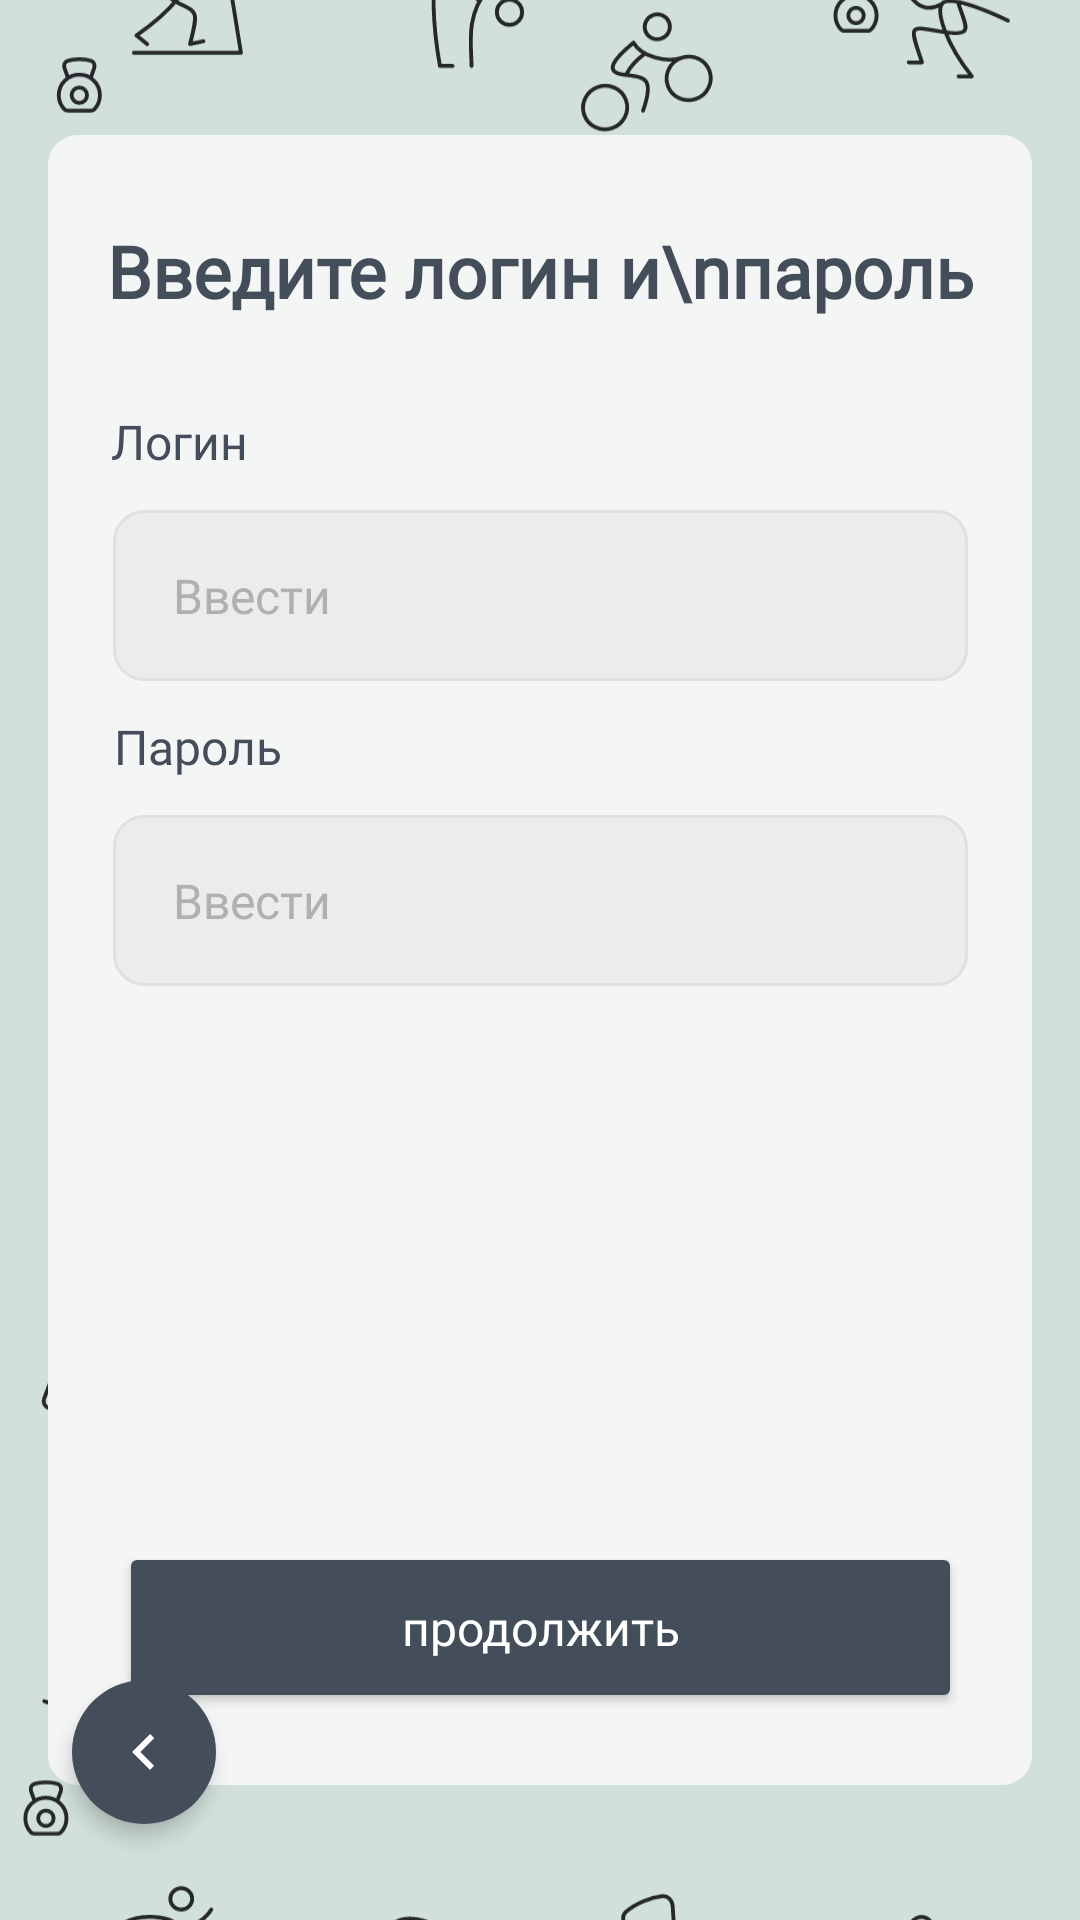

Point at icon controls on the screen. Image size 1080x1920, points as (x=x, y=y).
Кнопка Назад: (x=144, y=1752)
